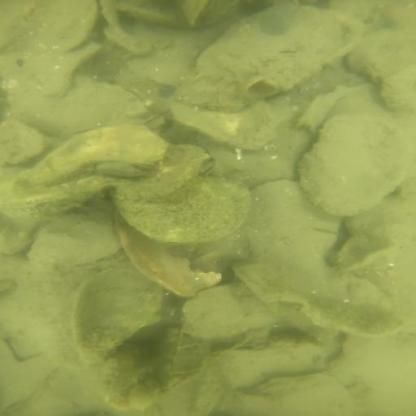Oyster-Closed: (196, 5, 367, 95), (233, 259, 403, 336), (299, 112, 410, 216), (115, 173, 252, 243), (186, 281, 337, 343), (14, 262, 98, 371), (115, 227, 221, 301), (32, 196, 122, 269), (117, 145, 216, 201), (238, 372, 359, 415), (380, 66, 410, 112), (96, 161, 149, 176)
